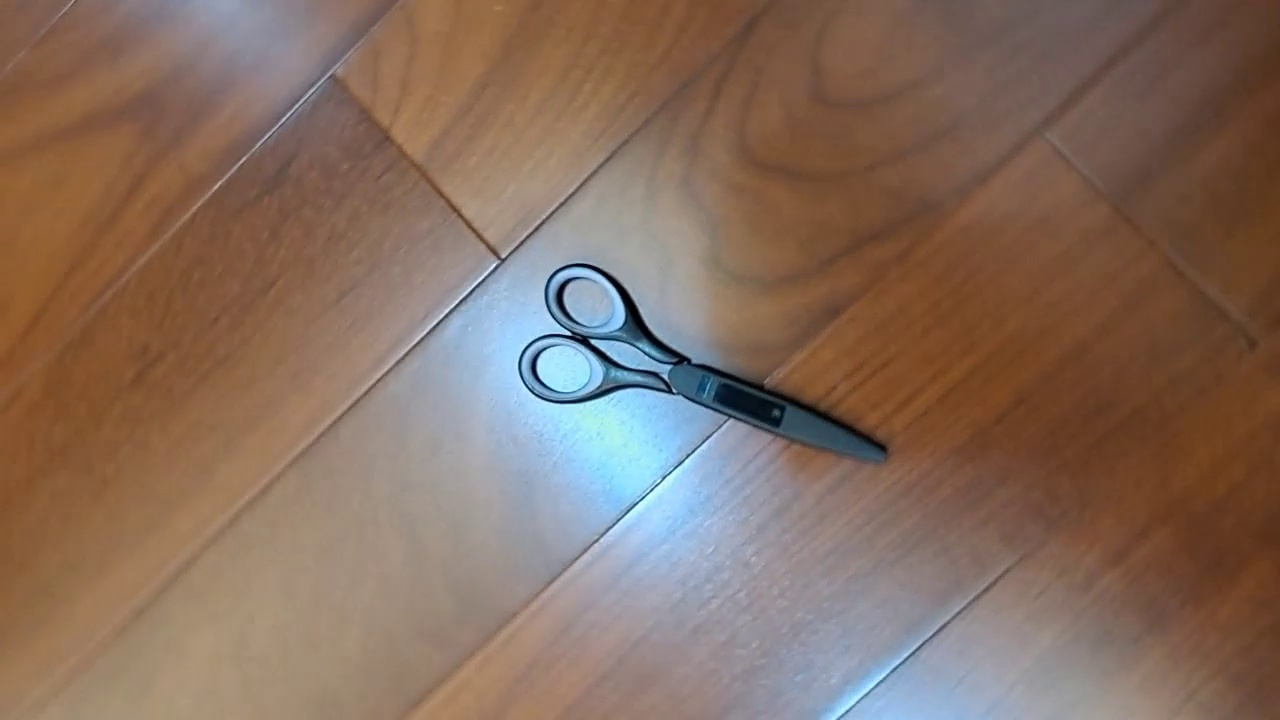scissors: (517, 261, 889, 465)
